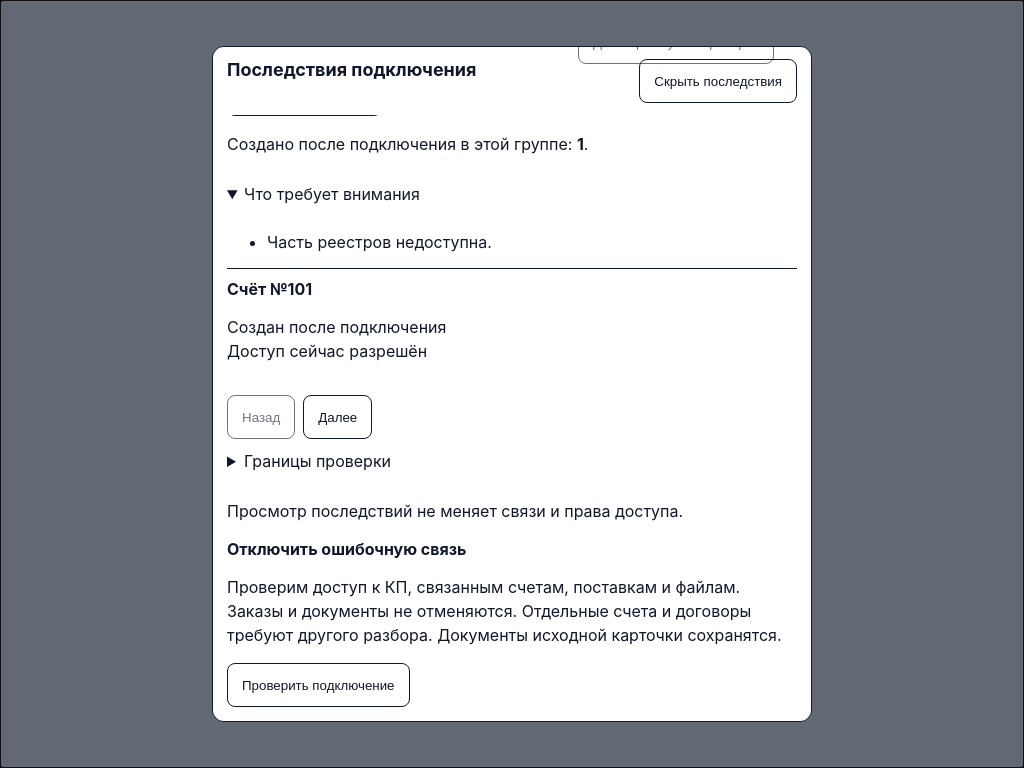
Test: the separate issued access flag enables preserving correction and reports closure without cancelling orders
(page scrolled)
Click the button "Проверить подключение".
click(318, 685)  # box [227,663,410,707]
(page scrolled)
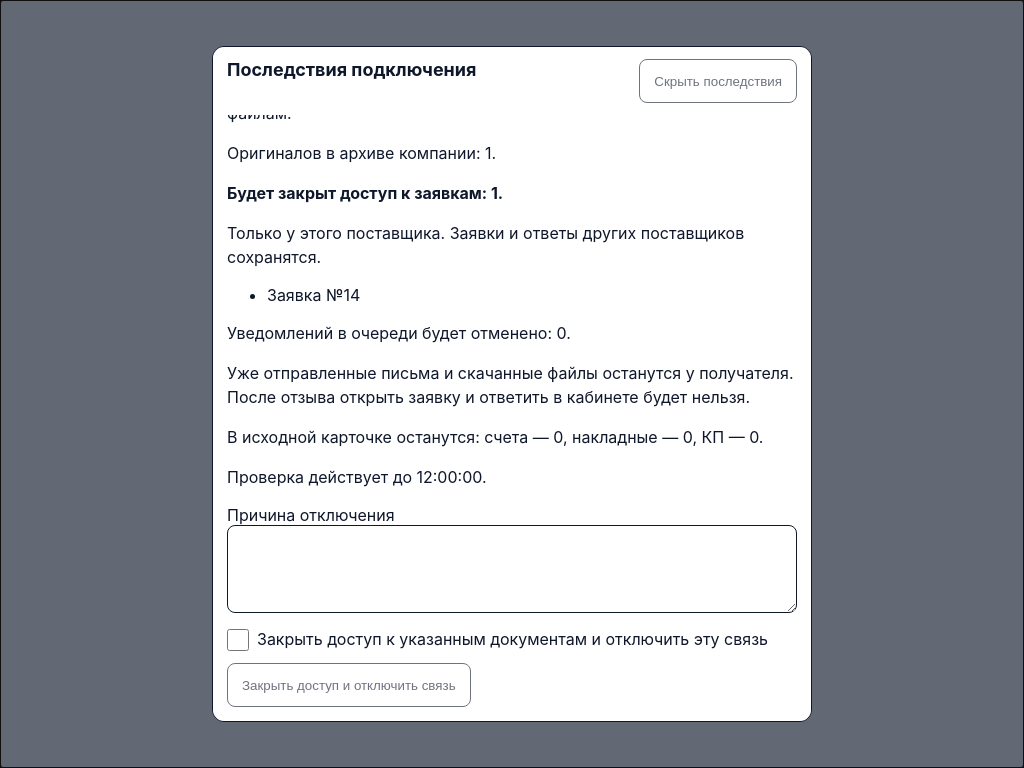
Type "Подключили ошибочный кабинет поставщика" into the text box labelled "Причина отключения".
click(512, 569); type("Подключили ошибочный кабинет поставщика")  # box [227,525,797,613]
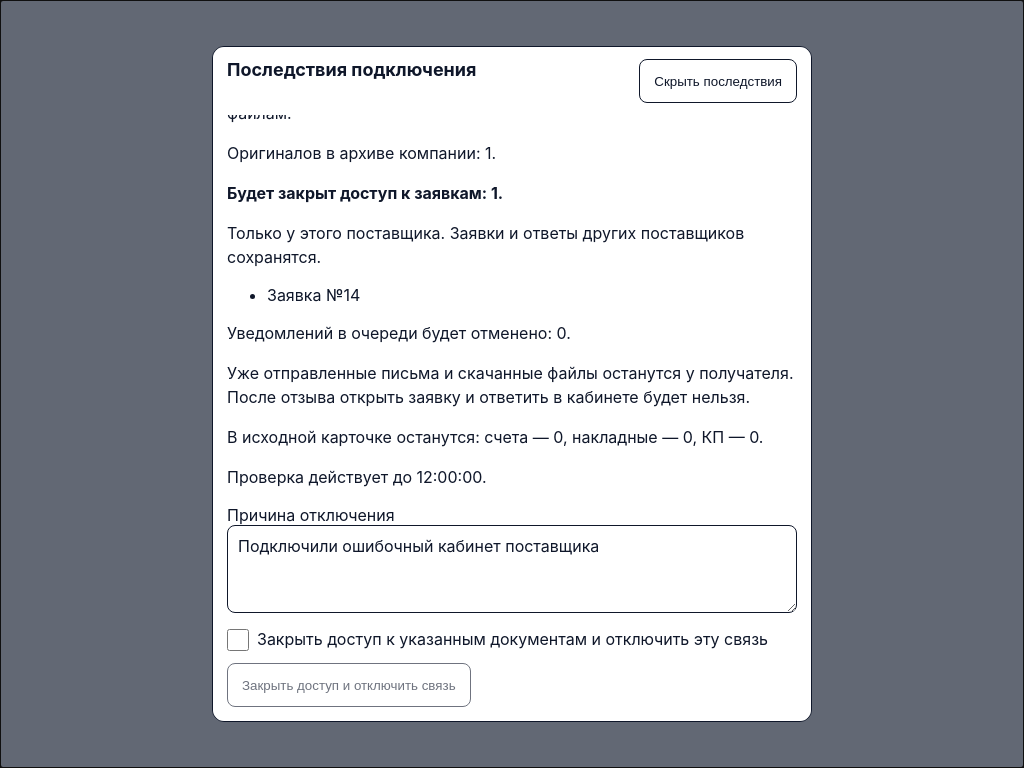
Click the checkbox.
click(238, 640)  # box [227,629,249,651]
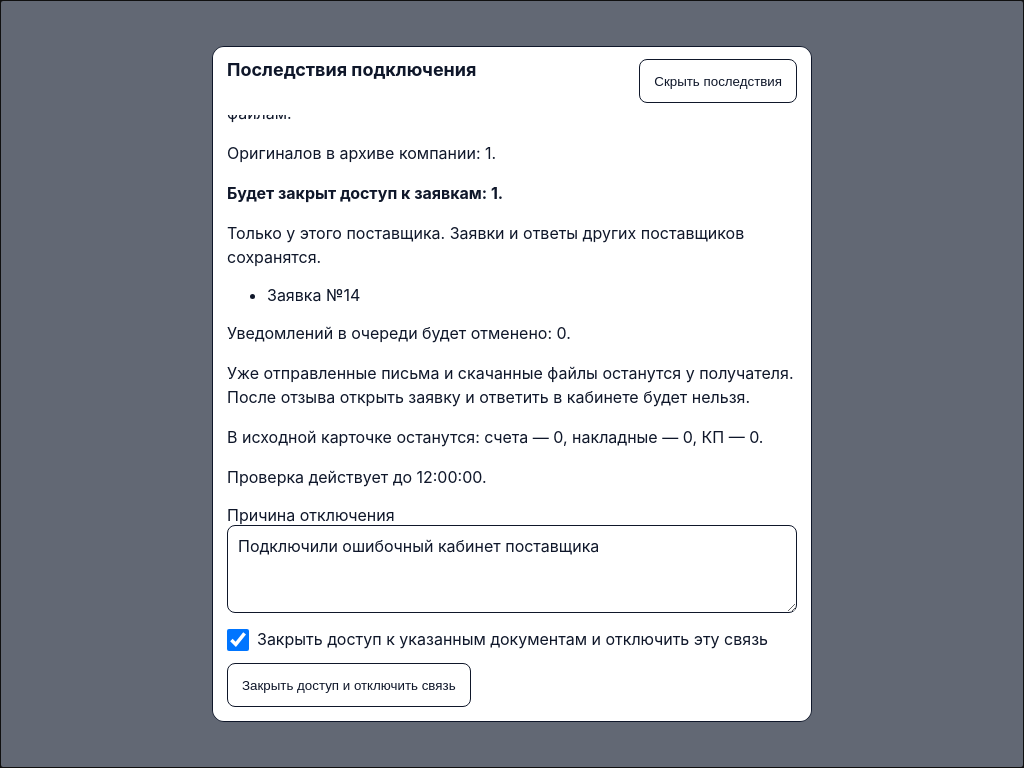
Click the button "Закрыть доступ и отключить связь".
click(349, 685)  # box [227,663,471,707]
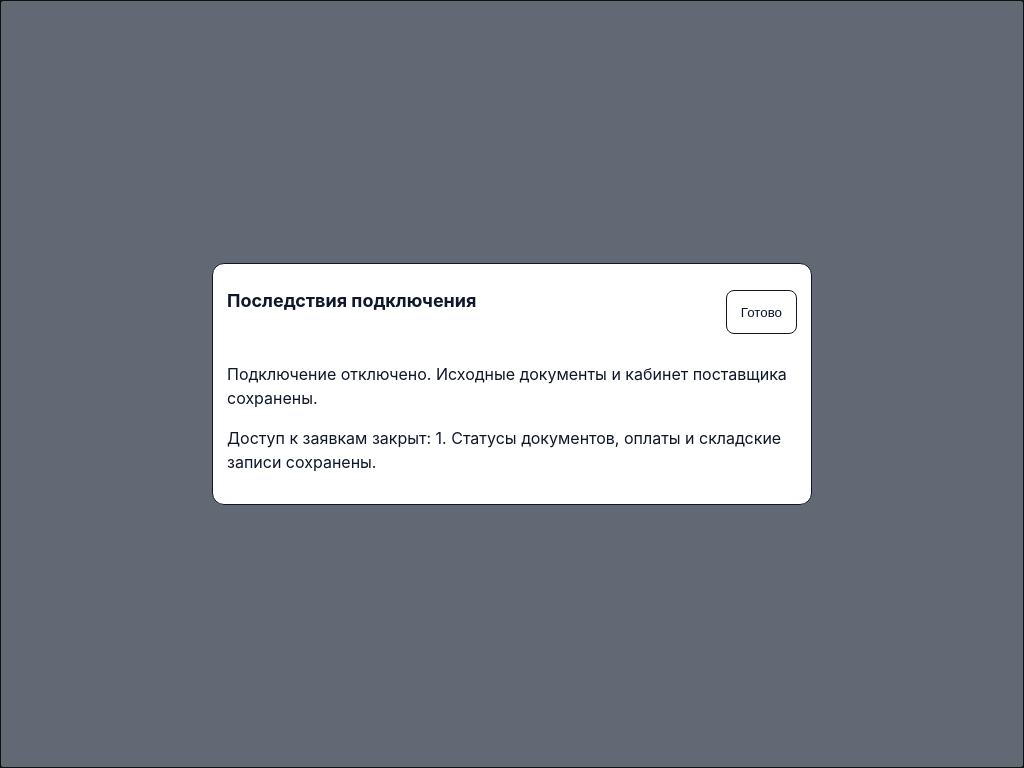
Now the text "Доступ к заявкам закрыт: 1. Статусы документов, оплаты и складские записи сохранены." is shown, box [227,426,797,474]
